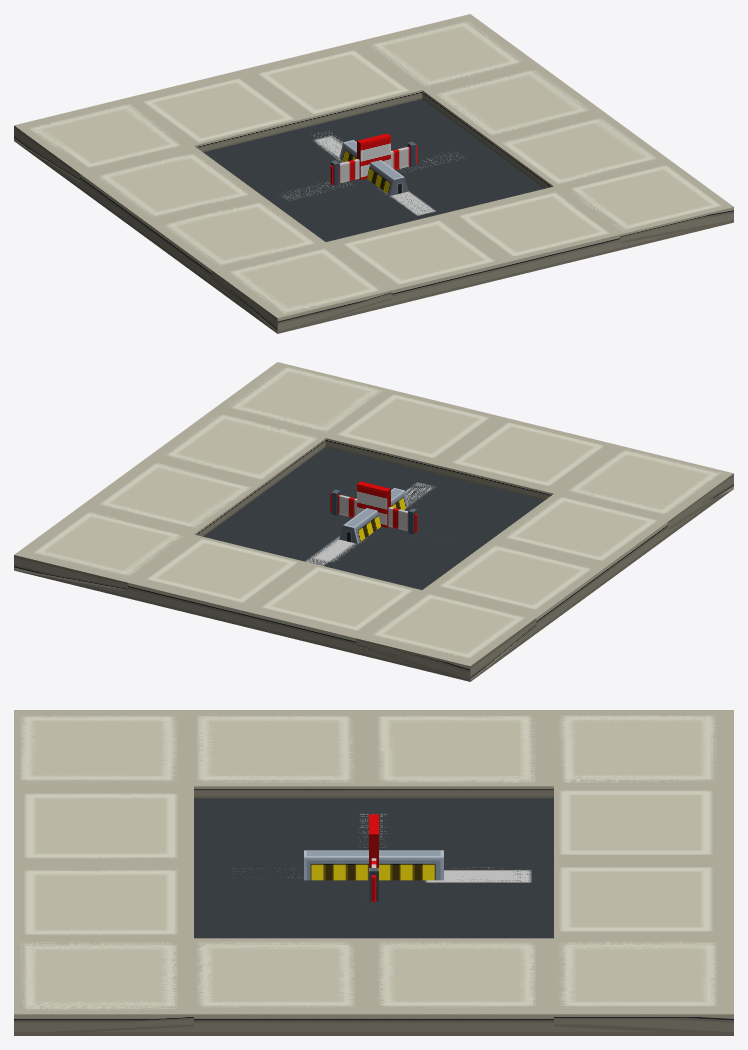
File: road_atlas_01.fbx
The picture shows the model from 3 angles, top to bottom: view 1: azimuth 30°, elevation 25°; view 2: azimuth 150°, elevation 25°; view 3: azimuth 270°, elevation 25°; orthographic projection. The views are drawn at different scales.
Visible parts, largest first — view 1: roads:end, roads:corner, roads:straight, roads:t, roads:junction, roads:barrier, roads:sign_big, roads:sign; view 2: roads:end, roads:corner, roads:straight, roads:t, roads:junction, roads:barrier, roads:sign_big, roads:sign; view 3: roads:end, roads:corner, roads:straight, roads:t, roads:barrier, roads:junction.
Part boxes in pixels (bbox=[...]): roads:end: bbox=[14, 14, 733, 333]; roads:corner: bbox=[14, 14, 733, 333]; roads:straight: bbox=[50, 14, 733, 317]; roads:t: bbox=[16, 14, 673, 303]; roads:junction: bbox=[16, 18, 708, 333]; roads:barrier: bbox=[339, 140, 408, 195]; roads:sign_big: bbox=[330, 141, 417, 186]; roads:sign: bbox=[357, 133, 390, 179]; roads:end: bbox=[14, 362, 732, 681]; roads:corner: bbox=[49, 362, 733, 681]; roads:straight: bbox=[15, 365, 683, 661]; roads:t: bbox=[14, 367, 733, 677]; roads:junction: bbox=[57, 362, 731, 671]; roads:barrier: bbox=[339, 488, 408, 543]; roads:sign_big: bbox=[330, 489, 417, 534]; roads:sign: bbox=[357, 481, 390, 527]; roads:end: bbox=[14, 710, 733, 1034]; roads:corner: bbox=[14, 710, 733, 1035]; roads:straight: bbox=[14, 710, 733, 1035]; roads:t: bbox=[14, 710, 733, 1035]; roads:barrier: bbox=[304, 850, 443, 880]; roads:junction: bbox=[14, 710, 733, 1014].
Size of the model in its own units: 50.8 by 9.17 by 50.8.
